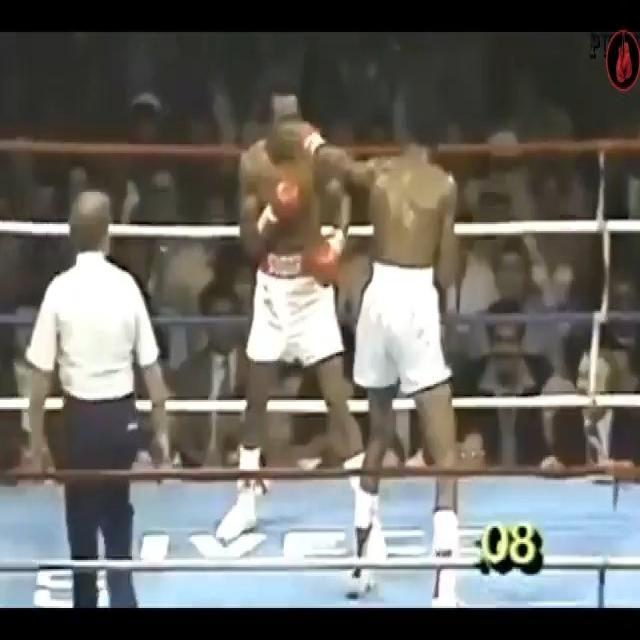Jab: (286, 103, 408, 293)
